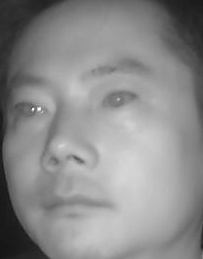eye: (97, 88, 138, 114), (10, 98, 48, 121)
mouth: (41, 188, 113, 226)
